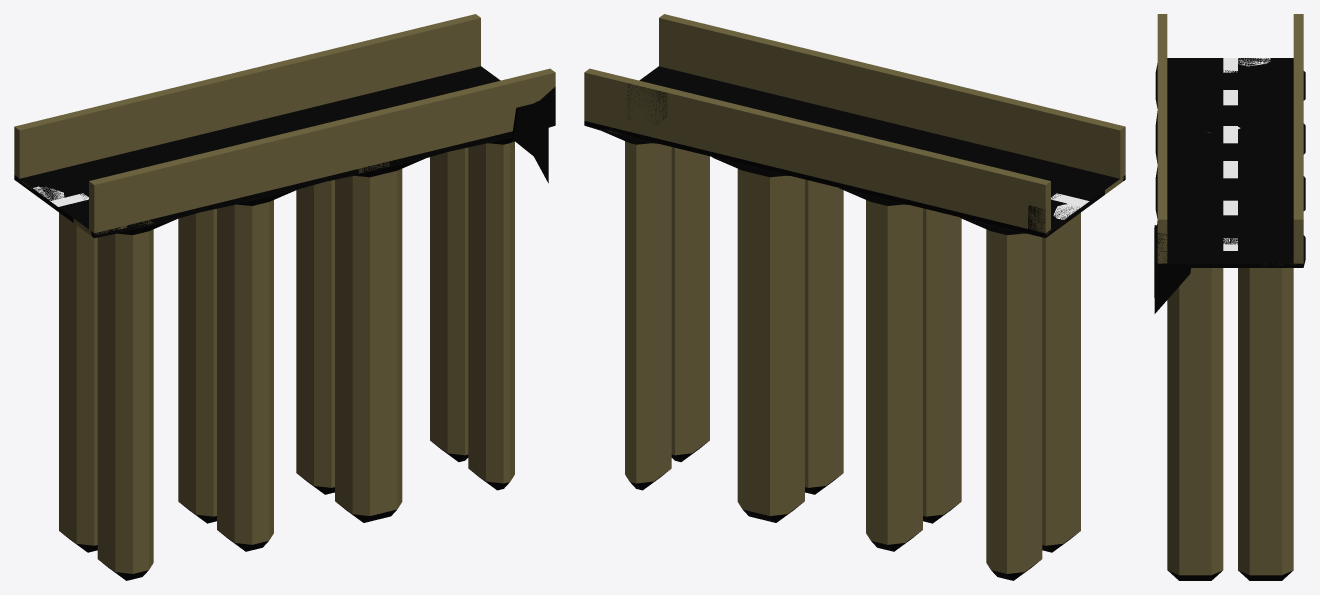
File: Bridge C.F(2).fbx
3 renders of one model, left to right at view 1: azimuth 30°, elevation 25°; view 2: azimuth 150°, elevation 25°; view 3: azimuth 270°, elevation 25°, orthographic. The views are drawn at different scales.
Visible parts, largest first — view 1: road, road_cell.041, road_cell.091, road_cell.038, road_cell.094, road_cell.052, road_cell.047, road_cell.064, road_cell.027, road_cell.059, road_cell.053, road_cell.026 (+17 smaller); view 2: road, road_cell.064, road_cell.038, road_cell.080, road_cell.041, road_cell.083, road_cell.052, road_cell.081, road_cell.003, road_cell.049, road_cell.071, road_cell.073 (+15 smaller); view 3: road, road_cell.004, road_cell.056, road_cell.038, road_cell.041, road_cell.085, road_cell.003, road_cell.094, road_cell.027, road_cell.091, road_cell.007, road_cell.043 (+3 smaller).
Boxes of the visible parts, left/top/right/bottom form: road: left=14, top=19, right=555, bottom=580; road_cell.041: left=411, top=77, right=459, bottom=284; road_cell.091: left=48, top=176, right=101, bottom=375; road_cell.038: left=430, top=273, right=455, bottom=459; road_cell.094: left=117, top=69, right=254, bottom=126; road_cell.052: left=217, top=367, right=242, bottom=549; road_cell.047: left=468, top=145, right=490, bottom=312; road_cell.064: left=59, top=363, right=78, bottom=545; road_cell.027: left=250, top=44, right=354, bottom=86; road_cell.059: left=473, top=303, right=490, bottom=485; road_cell.053: left=347, top=140, right=389, bottom=290; road_cell.026: left=193, top=143, right=264, bottom=194; road: left=584, top=14, right=1125, bottom=578; road_cell.064: left=986, top=390, right=1042, bottom=580; road_cell.038: left=625, top=300, right=671, bottom=490; road_cell.080: left=737, top=362, right=804, bottom=522; road_cell.041: left=625, top=140, right=671, bottom=315; road_cell.083: left=879, top=363, right=922, bottom=551; road_cell.052: left=923, top=333, right=961, bottom=520; road_cell.081: left=927, top=209, right=956, bottom=351; road_cell.003: left=671, top=283, right=697, bottom=461; road_cell.049: left=1042, top=375, right=1063, bottom=552; road_cell.071: left=990, top=214, right=1056, bottom=406; road_cell.073: left=805, top=319, right=823, bottom=494; road: left=1155, top=14, right=1305, bottom=580; road_cell.004: left=1181, top=417, right=1219, bottom=580; road_cell.056: left=1167, top=247, right=1202, bottom=421; road_cell.038: left=1281, top=417, right=1293, bottom=580; road_cell.041: left=1255, top=226, right=1293, bottom=419; road_cell.085: left=1154, top=232, right=1190, bottom=313; road_cell.003: left=1214, top=415, right=1223, bottom=578; road_cell.094: left=1293, top=58, right=1303, bottom=119; road_cell.027: left=1293, top=119, right=1303, bottom=163; road_cell.091: left=1241, top=64, right=1265, bottom=86; road_cell.007: left=1206, top=233, right=1255, bottom=244; road_cell.043: left=1205, top=70, right=1241, bottom=83.
Size of the model in its own units: 2000 by 1720 by 621.
